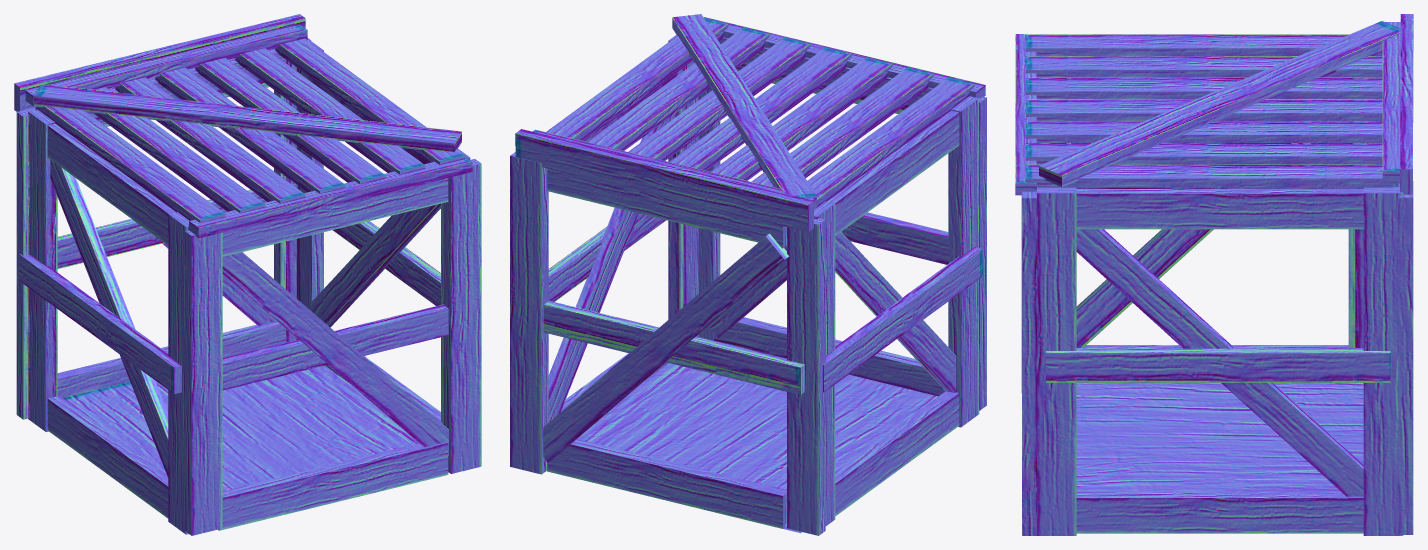
File: CrCrateA1C.fbx
The picture shows the model from 3 angles, left to right: view 1: azimuth 30°, elevation 25°; view 2: azimuth 150°, elevation 25°; view 3: azimuth 270°, elevation 25°; orthographic projection. The views are drawn at different scales.
Visible parts, largest first — view 1: CrCrateA1C, CrCrateA1CCap; view 2: CrCrateA1C, CrCrateA1CCap; view 3: CrCrateA1C, CrCrateA1CCap.
Boxes of the visible parts, x1,y1,x2,y2 form: CrCrateA1C: (16, 38, 481, 535); CrCrateA1CCap: (14, 14, 472, 238); CrCrateA1C: (510, 35, 986, 535); CrCrateA1CCap: (515, 14, 985, 232); CrCrateA1C: (1021, 181, 1413, 535); CrCrateA1CCap: (1015, 14, 1413, 195).
Size of the model in its own units: 83.65 by 88.34 by 87.19.
